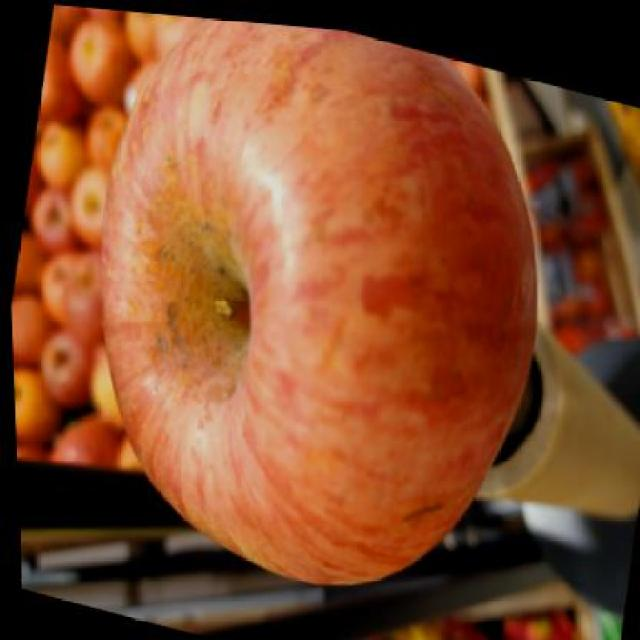Fresh Apple: (98, 41, 534, 578)
